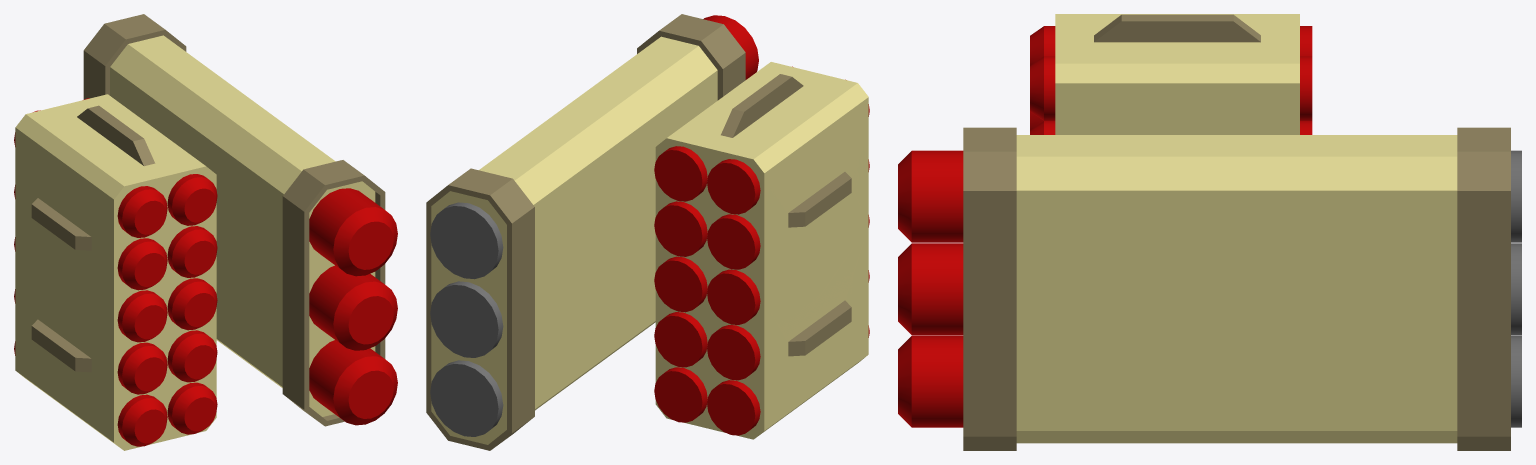
The model's file is EXGSide.fbx.
3 views of the same model, side by side, from view 1: azimuth 30°, elevation 25°; view 2: azimuth 150°, elevation 25°; view 3: azimuth 270°, elevation 25° (orthographic). The views are drawn at different scales.
Visible parts, largest first — view 1: pCube58, pCube57, pCylinder79, pCylinder81, pCylinder58, pCylinder65, pCylinder60, pCylinder67, pCylinder68, pCylinder63, pCylinder64, pCylinder66 (+3 smaller); view 2: pCube57, pCube58, pCylinder79, pCylinder81, pCylinder58, pCylinder63, pCylinder60, pCylinder65, pCylinder67, pCylinder68, pCylinder66, pCylinder62 (+3 smaller); view 3: pCube57, pCube58, pCylinder58, pCylinder79, pCylinder81, pCylinder64, pCylinder65.
Part boxes in pixels (left/top/right/bottom): pCube58: left=15, top=94, right=216, bottom=450; pCube57: left=83, top=14, right=385, bottom=426; pCylinder79: left=309, top=188, right=397, bottom=276; pCylinder81: left=309, top=340, right=397, bottom=425; pCylinder58: left=309, top=265, right=397, bottom=350; pCylinder65: left=14, top=110, right=167, bottom=237; pCylinder60: left=14, top=237, right=167, bottom=342; pCylinder67: left=14, top=341, right=167, bottom=446; pCylinder68: left=14, top=289, right=167, bottom=394; pCylinder63: left=14, top=185, right=167, bottom=290; pCylinder64: left=84, top=98, right=217, bottom=225; pCylinder66: left=167, top=382, right=217, bottom=434; pCube57: left=426, top=14, right=745, bottom=450; pCube58: left=655, top=62, right=868, bottom=439; pCylinder79: left=430, top=15, right=758, bottom=279; pCylinder81: left=430, top=360, right=503, bottom=436; pCylinder58: left=430, top=281, right=503, bottom=357; pCylinder63: left=707, top=159, right=869, bottom=269; pCylinder60: left=707, top=215, right=869, bottom=324; pCylinder65: left=707, top=79, right=869, bottom=214; pCylinder67: left=707, top=325, right=869, bottom=435; pCylinder68: left=707, top=270, right=869, bottom=380; pCylinder66: left=654, top=367, right=707, bottom=422; pCylinder62: left=654, top=201, right=707, bottom=256; pCube57: left=963, top=127, right=1510, bottom=450; pCube58: left=1055, top=14, right=1299, bottom=134; pCylinder58: left=898, top=243, right=1521, bottom=335; pCylinder79: left=898, top=150, right=1521, bottom=242; pCylinder81: left=898, top=335, right=1521, bottom=427; pCylinder64: left=1030, top=56, right=1312, bottom=120; pCylinder65: left=1030, top=26, right=1312, bottom=65.
Size of the model in its own units: 3.45 by 4 by 6.11.
